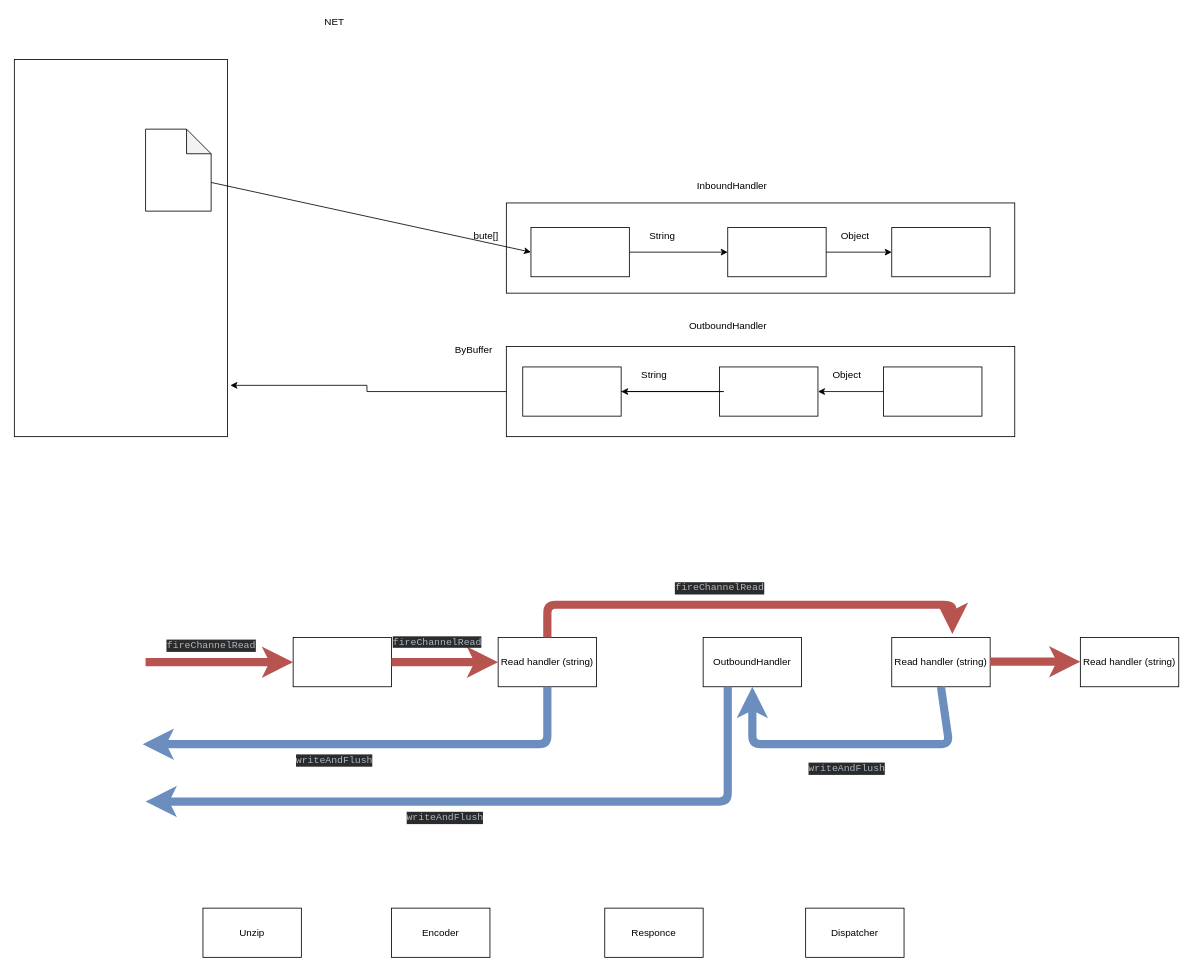
The diagram is 1193 pixels wide and 972 high, and some of its shapes have lost their labels. Here are the shapes that lost their labels. From the top down, the centre of each, then its label:
the point at 178,169: ByteBuffer
the point at 342,662: Read handler (bytebuf)
